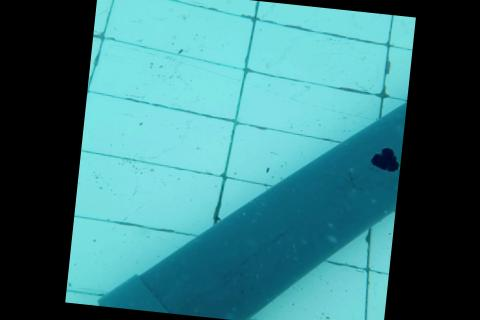kebocoran: (368, 145, 402, 175)
